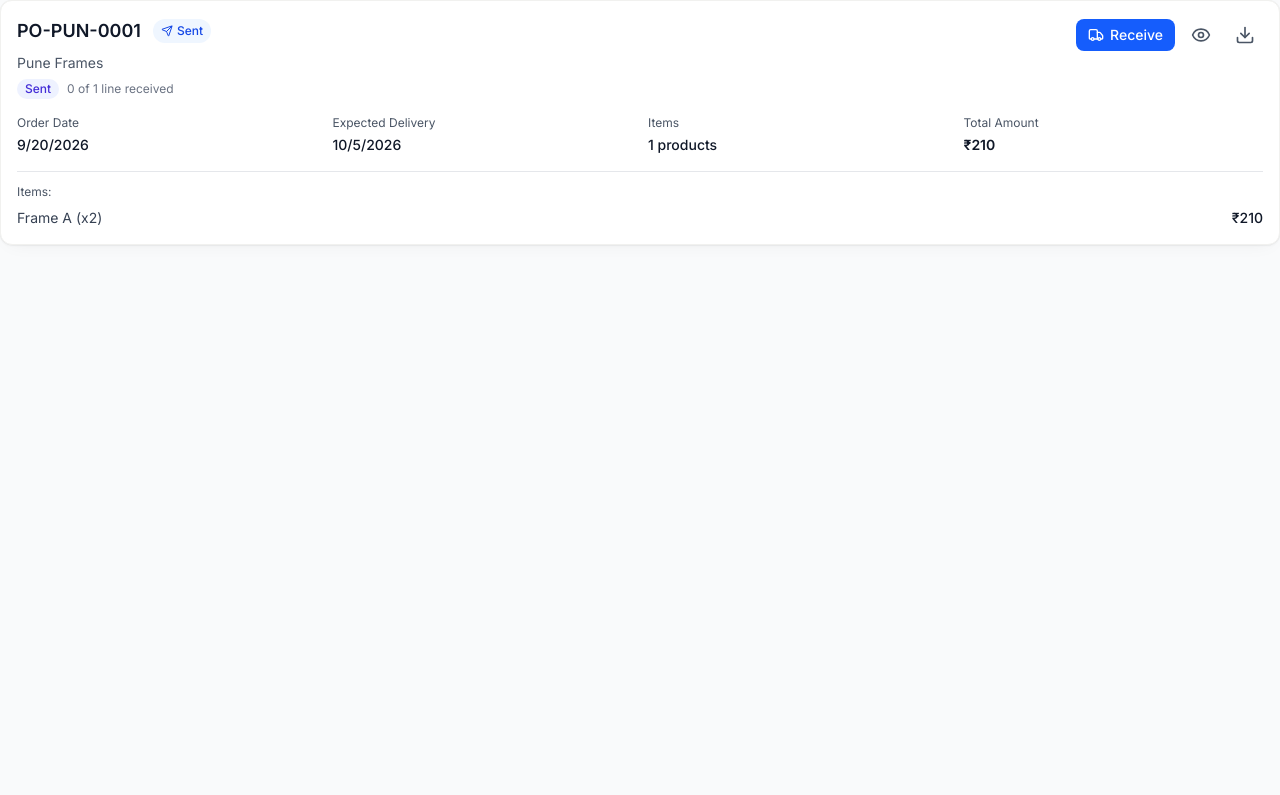
Test: Receive from Purchase Orders lands on a receive screen holding the order › admin who picked Pune: the screen reads Pune and opens the order
What coordinates should you click on to do the following:
click the button "Receive"
I would click on:
 (1126, 35)
Its box is [1076, 19, 1175, 51].
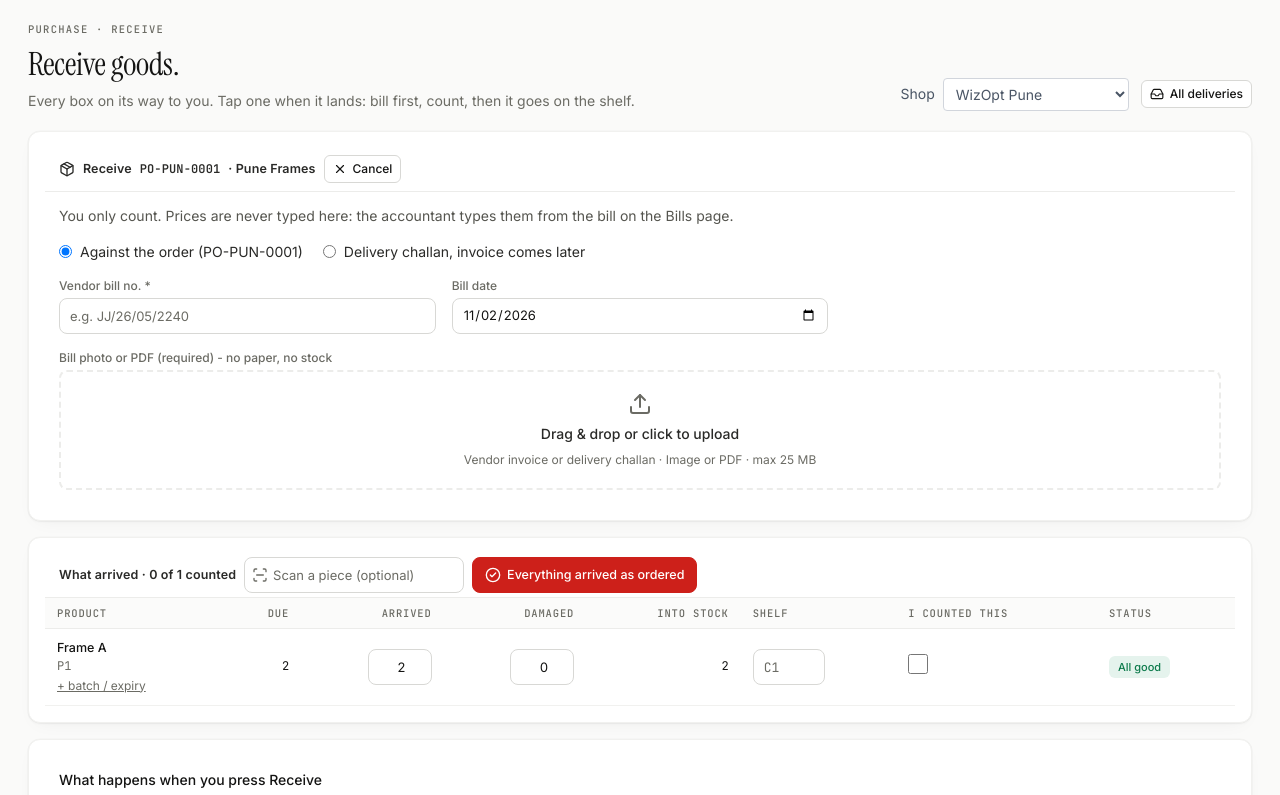
expect the heading "Receive PO-PUN-0001 · Pune Frames" is shown: met, box [59, 161, 316, 177]
expect the dropdown named "Purchase shop" shows "WizOpt Pune": met, box [943, 78, 1129, 111]
